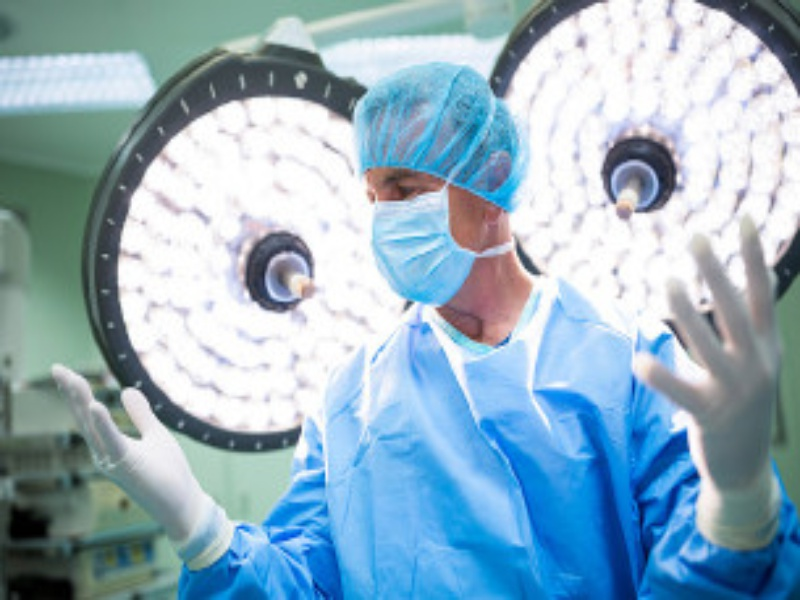mask: (340, 67, 537, 307)
